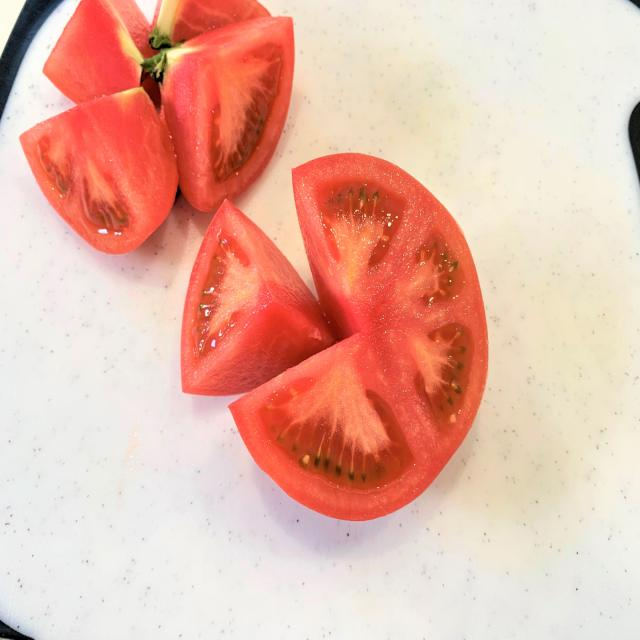Tomato: (226, 149, 492, 530), (178, 195, 350, 402), (149, 15, 301, 215), (16, 82, 179, 260), (40, 1, 152, 114)
